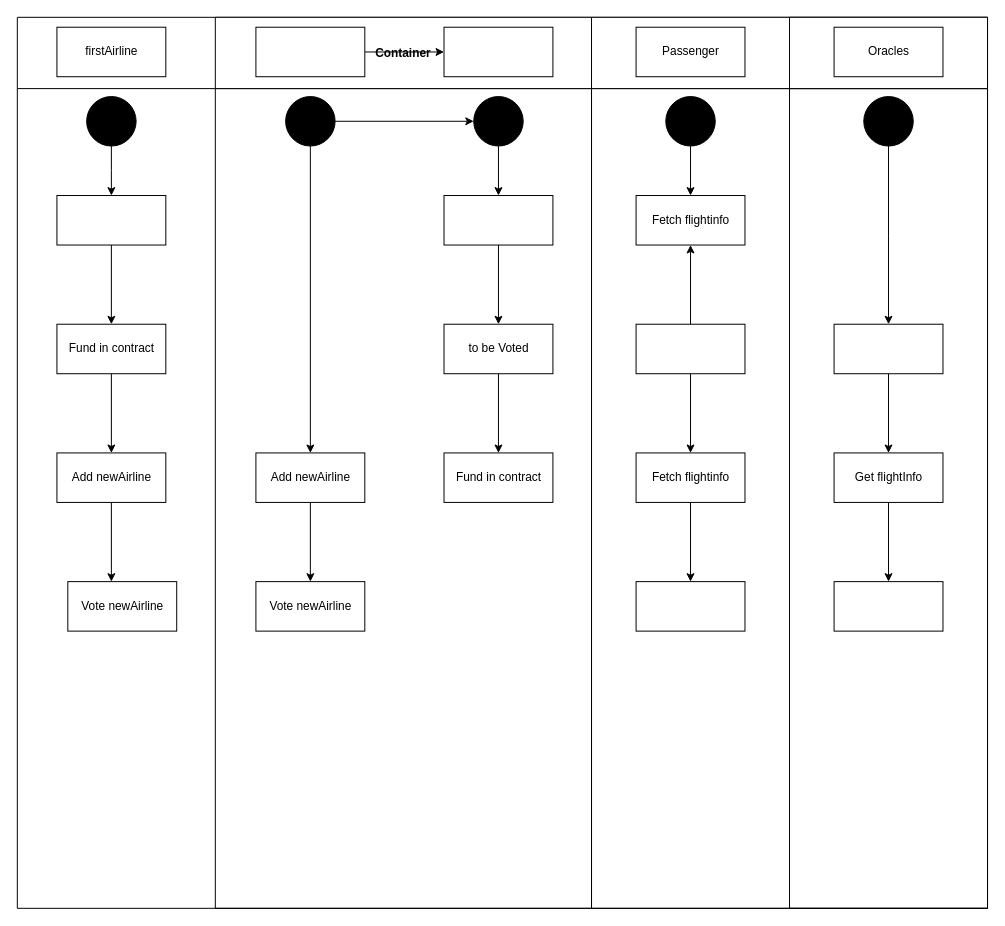
Some shapes in this 1005 by 926 pixel diagram are drawn without their labels. Here are the shapes that lost their labels. From the top down, the box of each, then its label:
(255, 26, 365, 77): hasFund Airlines
(443, 26, 553, 77): newAirline
(56, 195, 166, 245): Initially deployed in contract
(443, 195, 553, 245): to be Added
(635, 323, 745, 374): Buy insuree
(833, 323, 943, 374): Register Oracle
(635, 581, 745, 631): Withdraw insuree
(833, 581, 943, 631): Submit response
